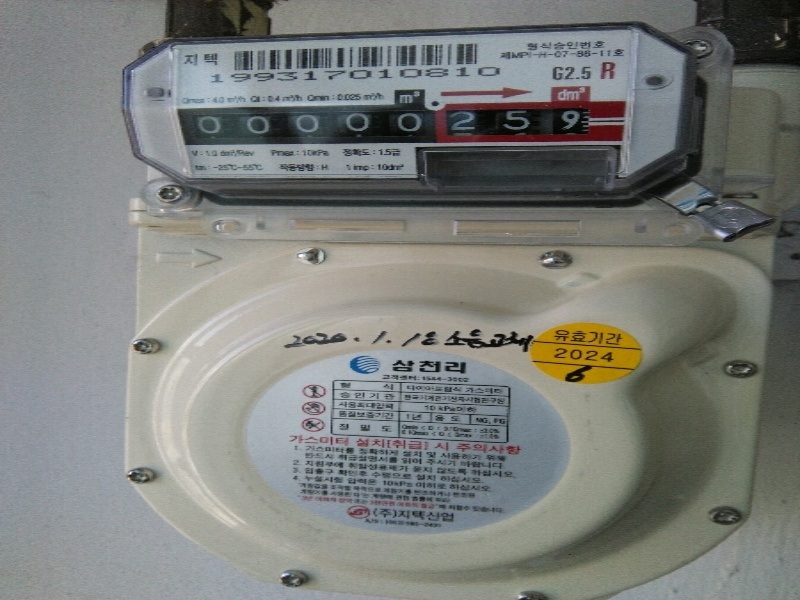meter: (111, 24, 705, 199)
